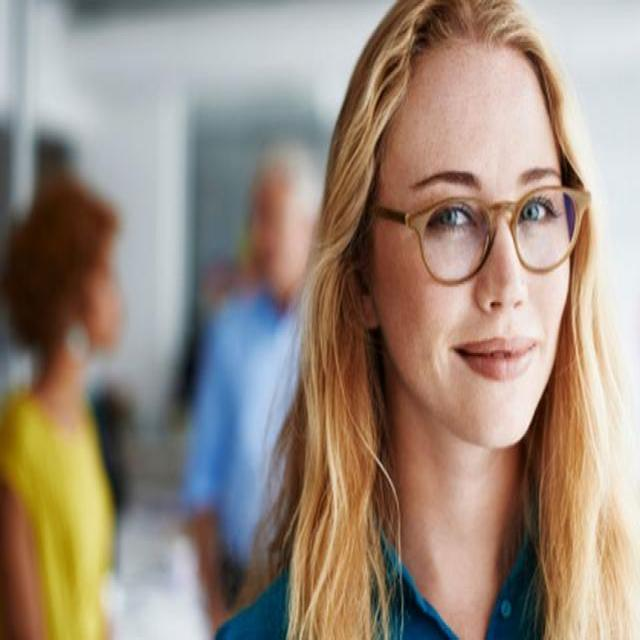glasses: (370, 182, 592, 287)
